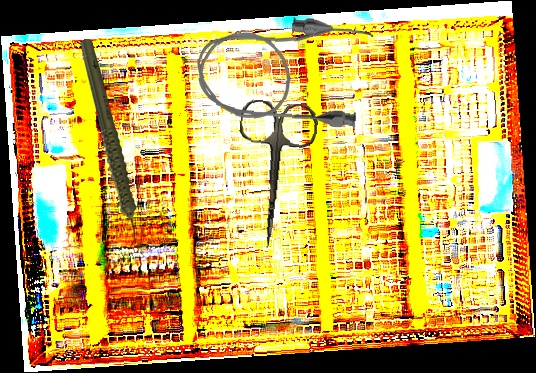Cannula: (194, 12, 374, 130)
Handpiece: (79, 38, 138, 250)
Iris Scissors: (227, 98, 320, 252)
